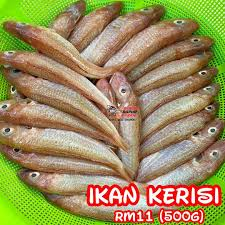Ikan Kerisi: (98, 68, 153, 185), (1, 123, 106, 154), (4, 98, 84, 129), (1, 44, 70, 75), (18, 168, 86, 195), (174, 101, 225, 128)
